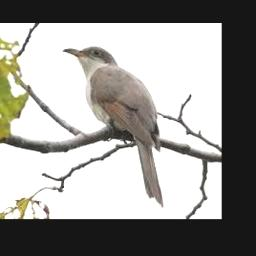Cuckoo: (62, 46, 163, 207)
